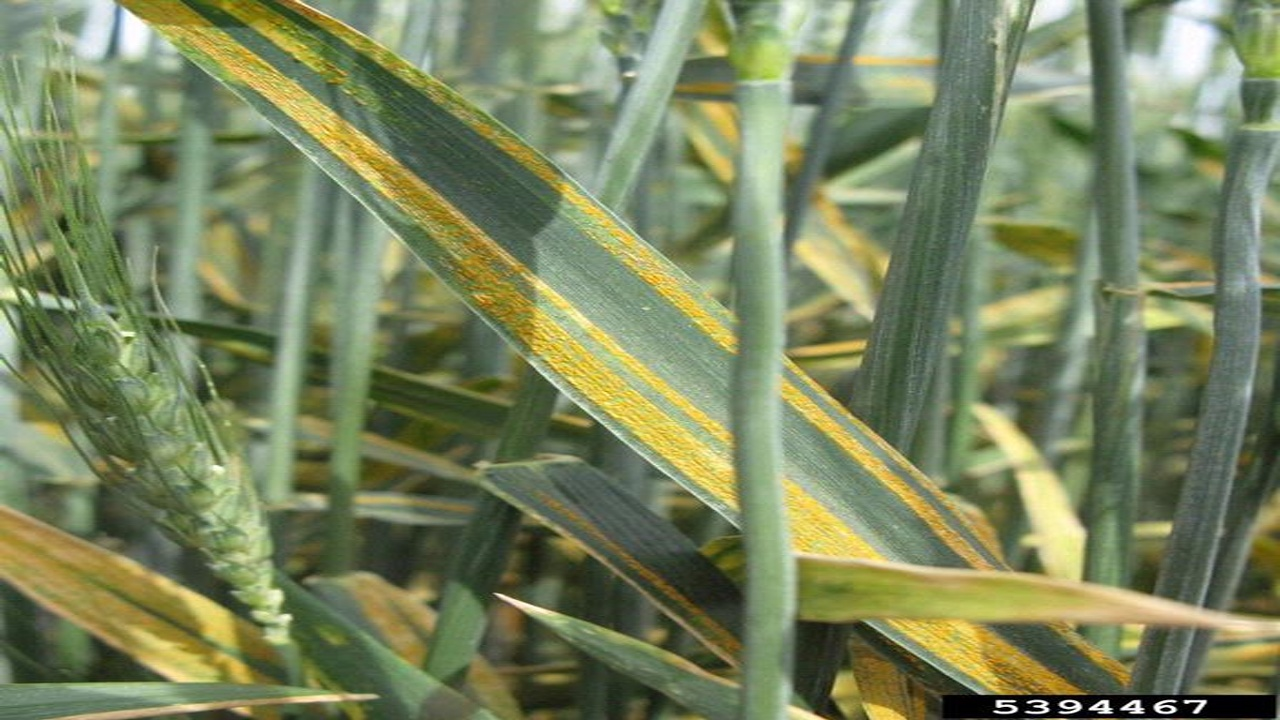stripe_rust: (111, 1, 1139, 720), (1, 502, 499, 720), (479, 463, 835, 720)
